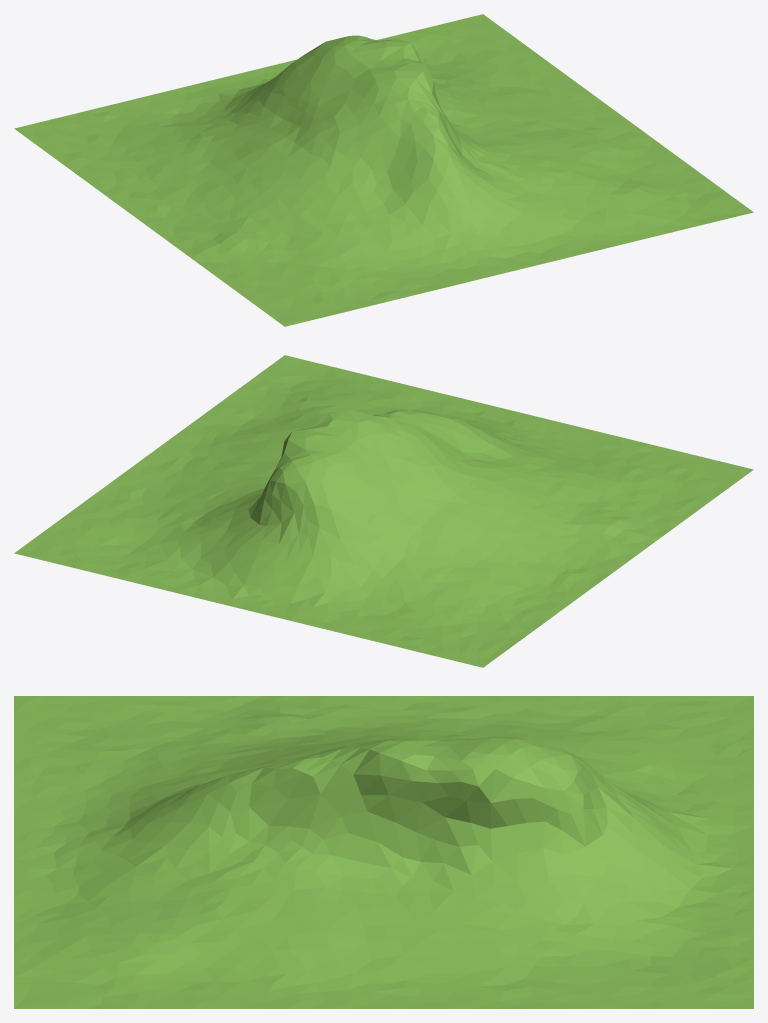
Rendered from MT_Terrain_L_a_17.fbx.
3 renders of one model, top to bottom at view 1: azimuth 30°, elevation 25°; view 2: azimuth 150°, elevation 25°; view 3: azimuth 270°, elevation 25°, orthographic. The views are drawn at different scales.
Parts seen in each view (by area): view 1: MT_Terrain_L_a_17; view 2: MT_Terrain_L_a_17; view 3: MT_Terrain_L_a_17.
Boxes of the visible parts, box(x1,y1,x2,y2) form: MT_Terrain_L_a_17: box(14, 14, 753, 326); MT_Terrain_L_a_17: box(14, 355, 753, 667); MT_Terrain_L_a_17: box(14, 696, 753, 1008).
Bounding box in the file's own units: 10000 × 1916 × 10000.
